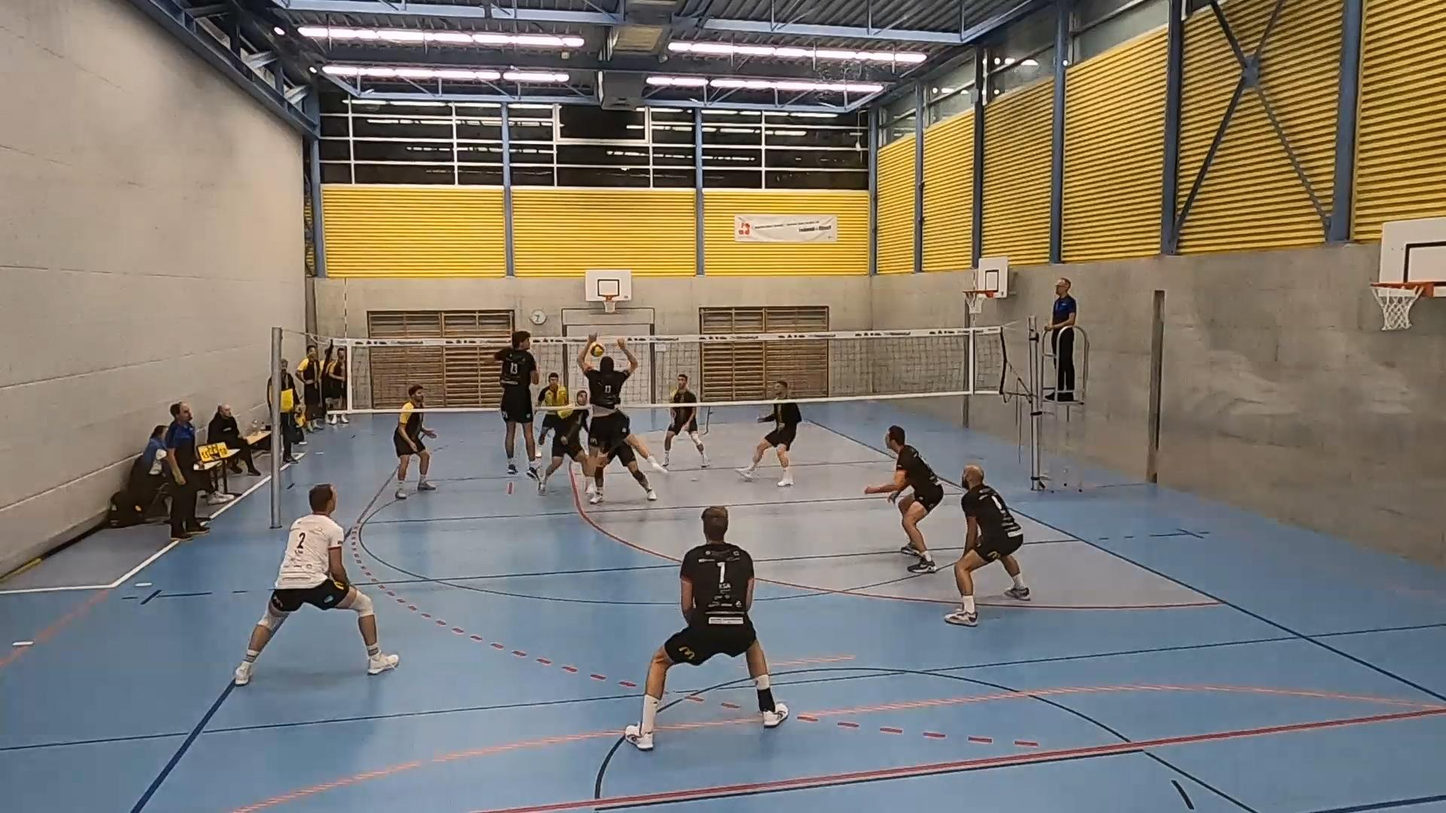Block: (576, 334, 647, 497), (480, 328, 546, 487)
Player: (624, 506, 788, 750), (234, 485, 398, 685), (945, 465, 1030, 626), (865, 426, 943, 573), (737, 380, 801, 486), (538, 390, 590, 494), (393, 385, 435, 499), (588, 443, 657, 504), (535, 373, 571, 458), (663, 406, 708, 467)
